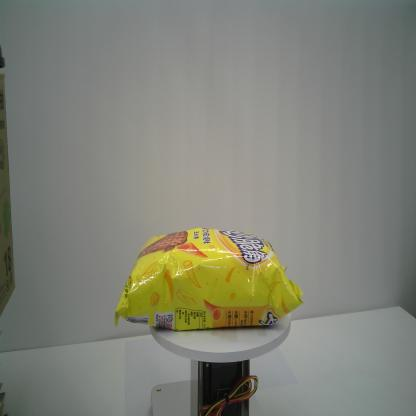Puffed Food: (114, 226, 303, 332)
